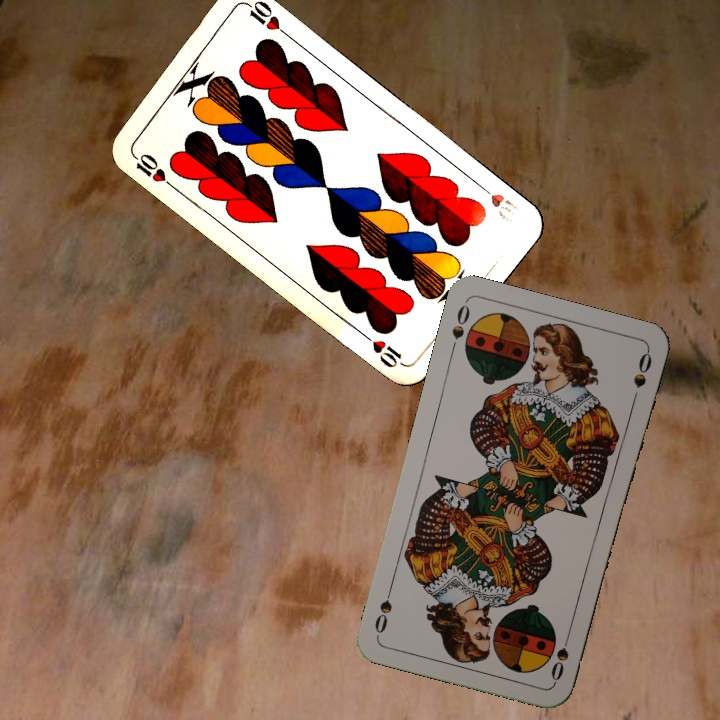H10: (473, 179, 522, 224), (127, 149, 177, 191)
SO: (546, 626, 574, 684), (446, 300, 473, 357)
